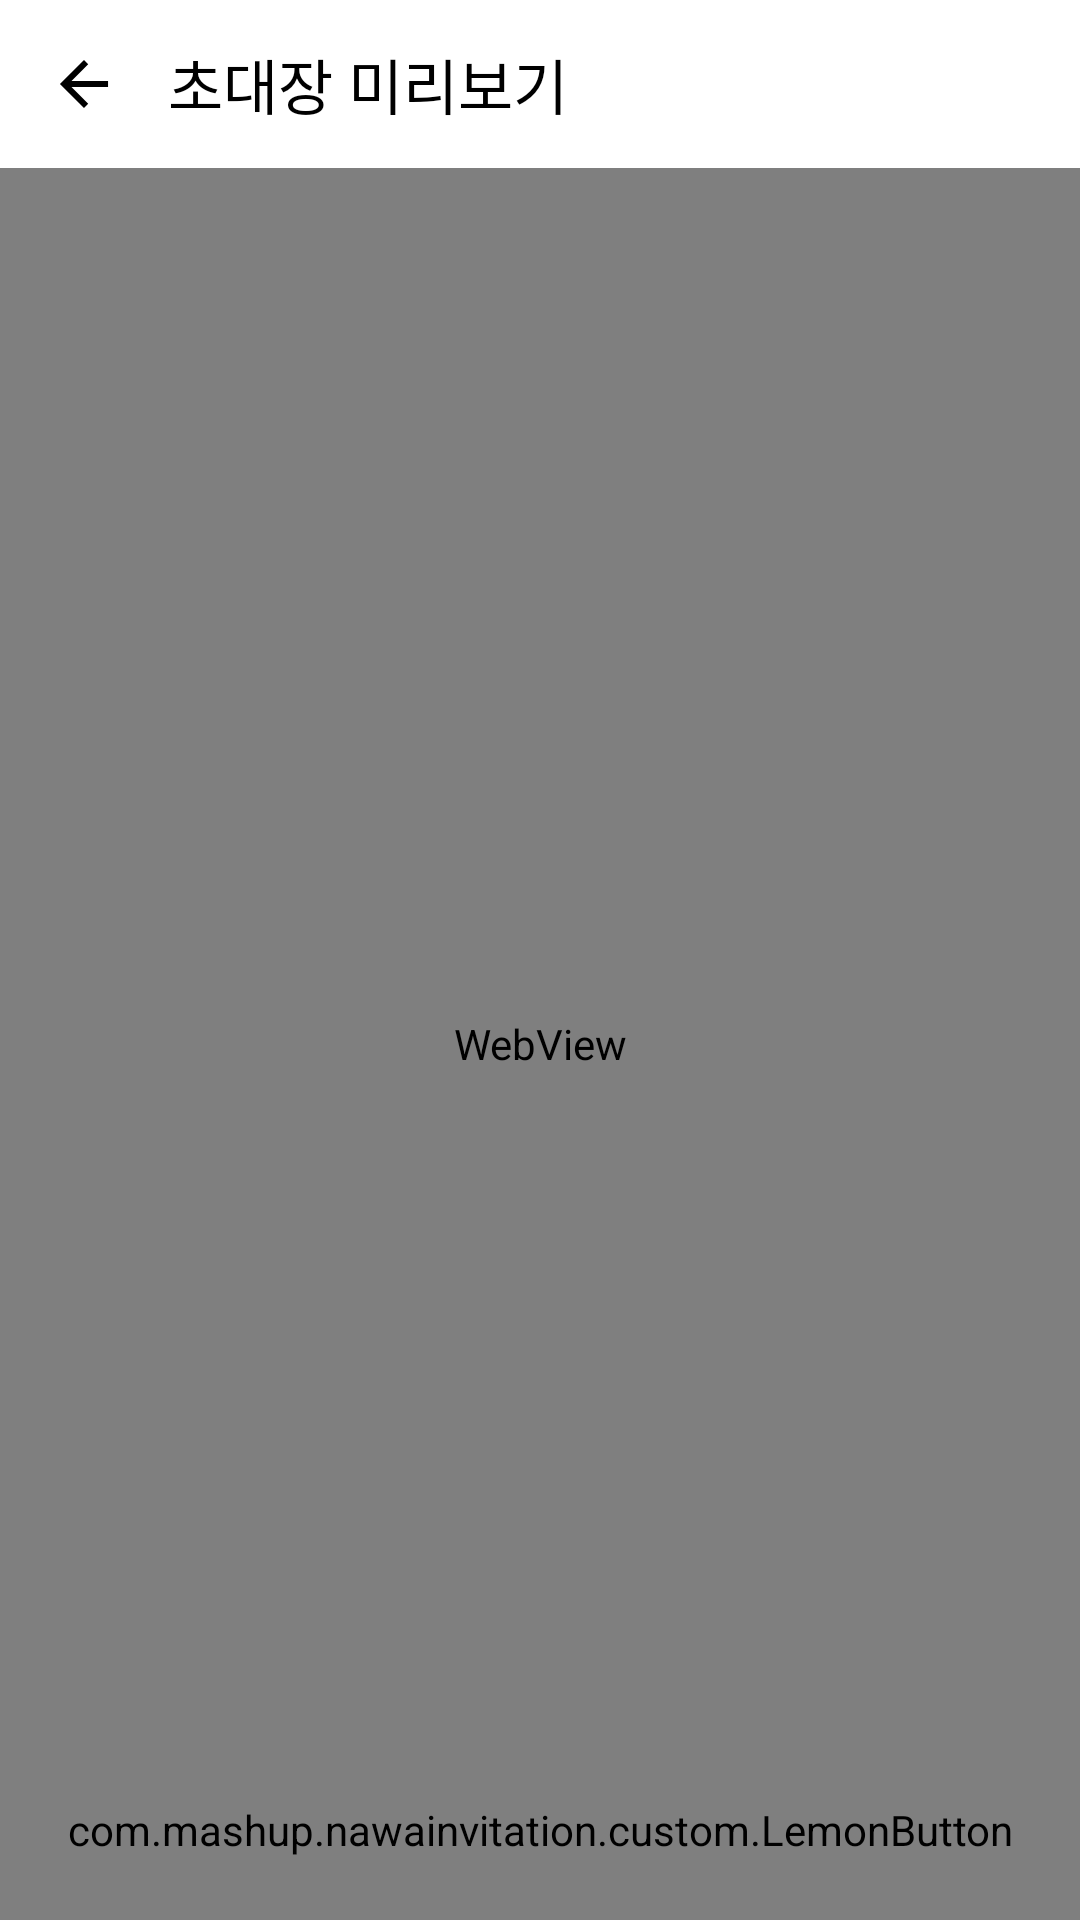

Icon click points for this 1080*1920 phone screenshot, format point (x, y):
arrow back: point (84, 84)
